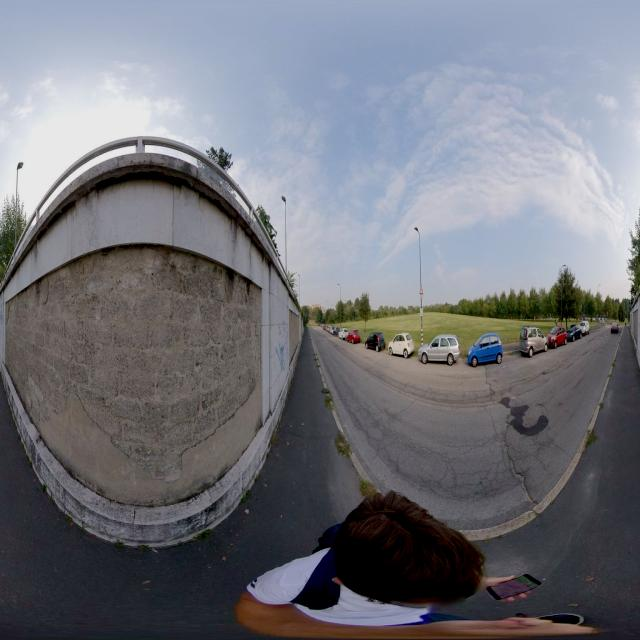car: (418, 334, 460, 366), (467, 332, 503, 367), (518, 326, 548, 357), (388, 332, 415, 358), (548, 325, 568, 348), (365, 331, 386, 351), (349, 329, 361, 344), (566, 326, 576, 342), (582, 319, 590, 333), (610, 323, 619, 335), (341, 328, 348, 339)
